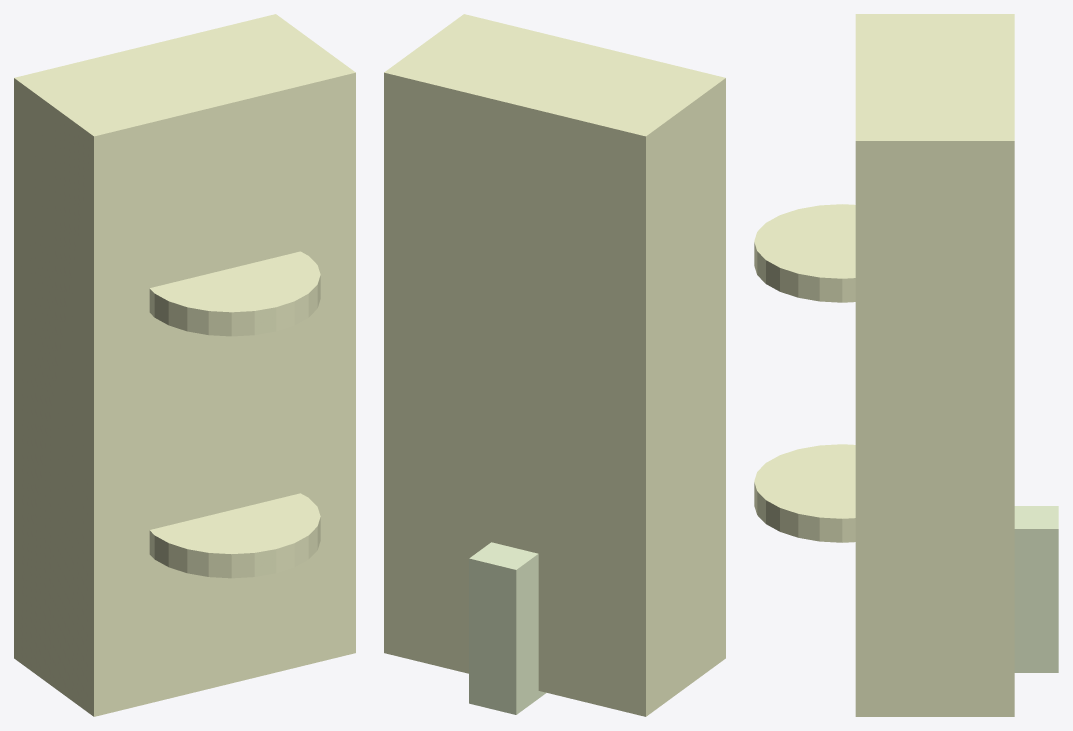
The model's file is signal_warning_dual_amber_compact_vertical.glb.
3 renders of one model, left to right at view 1: azimuth 30°, elevation 25°; view 2: azimuth 150°, elevation 25°; view 3: azimuth 270°, elevation 25°, orthographic.
Visible parts, largest first — view 1: housing, lens_warning_right, lens_warning_left; view 2: housing, bracket; view 3: housing, lens_warning_left, lens_warning_right, bracket.
Part boxes in pixels (<box>): housing: <box>14,14,355,716</box>; lens_warning_right: <box>149,493,320,578</box>; lens_warning_left: <box>149,251,320,336</box>; housing: <box>384,14,725,716</box>; bracket: <box>469,542,546,714</box>; housing: <box>855,14,1014,716</box>; lens_warning_left: <box>754,204,855,302</box>; lens_warning_right: <box>754,444,855,542</box>; bracket: <box>1014,506,1058,672</box>.
Size of the model in its own units: 0.34 by 0.73 by 0.345.
